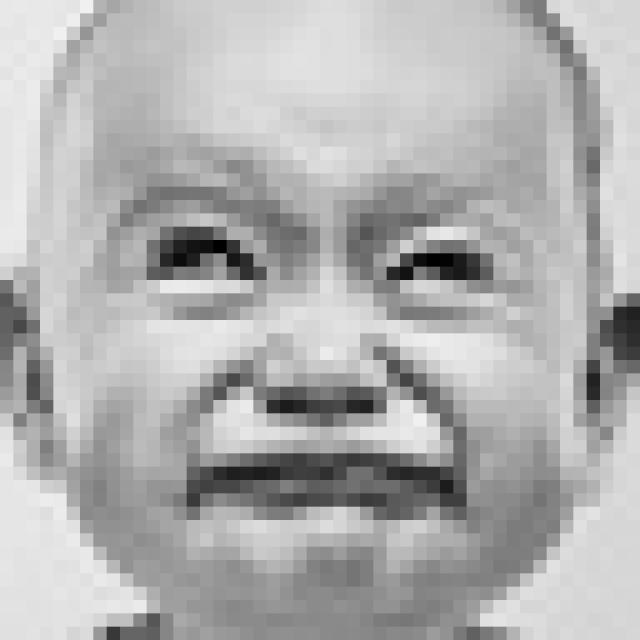sad: (99, 155, 530, 544)
